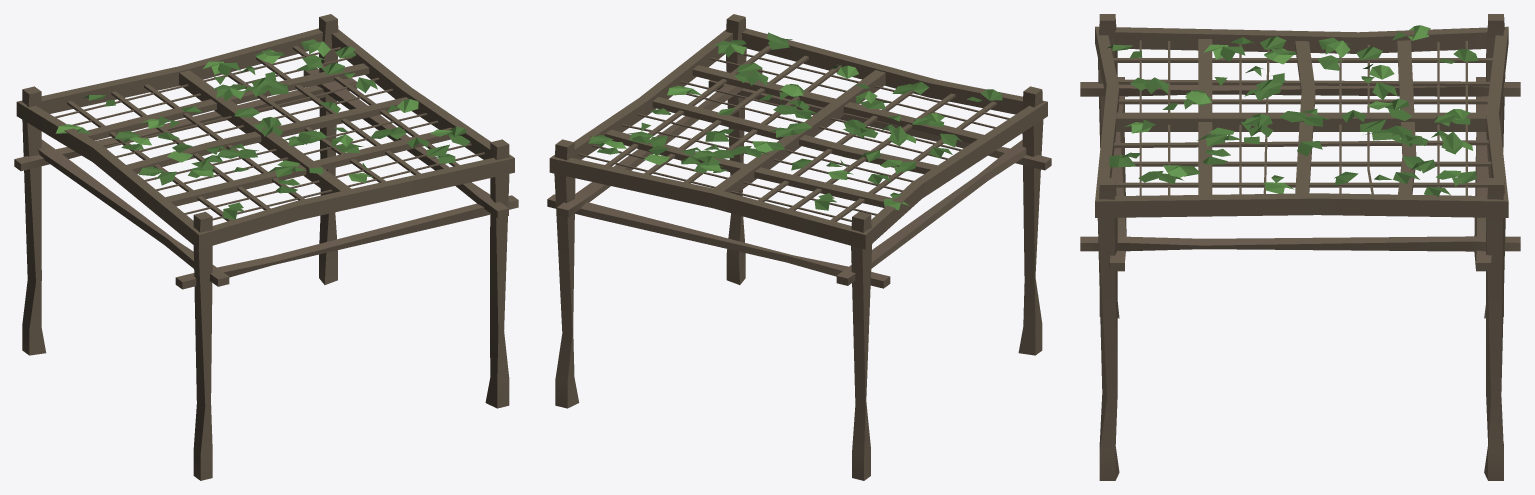
Rendered from SM_Bld_Cuba_Sunshade_01.glb.
3 views of the same model, side by side, from view 1: azimuth 30°, elevation 25°; view 2: azimuth 150°, elevation 25°; view 3: azimuth 270°, elevation 25° (orthographic). The views are drawn at different scales.
Visible parts, largest first — view 1: SM_Bld_Cuba_Sunshade_01; view 2: SM_Bld_Cuba_Sunshade_01; view 3: SM_Bld_Cuba_Sunshade_01.
Boxes of the visible parts, x1,y1,x2,y2 form: SM_Bld_Cuba_Sunshade_01: [14, 14, 518, 480]; SM_Bld_Cuba_Sunshade_01: [547, 14, 1051, 480]; SM_Bld_Cuba_Sunshade_01: [1080, 14, 1520, 480].
Size of the model in its own units: 0.0438 by 0.0328 by 0.0438.
1 material, 1 textured.
